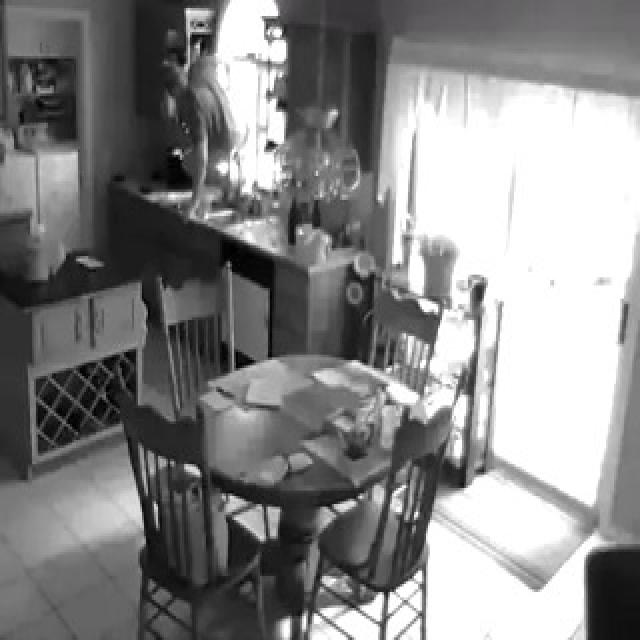thief: (152, 55, 231, 174)
